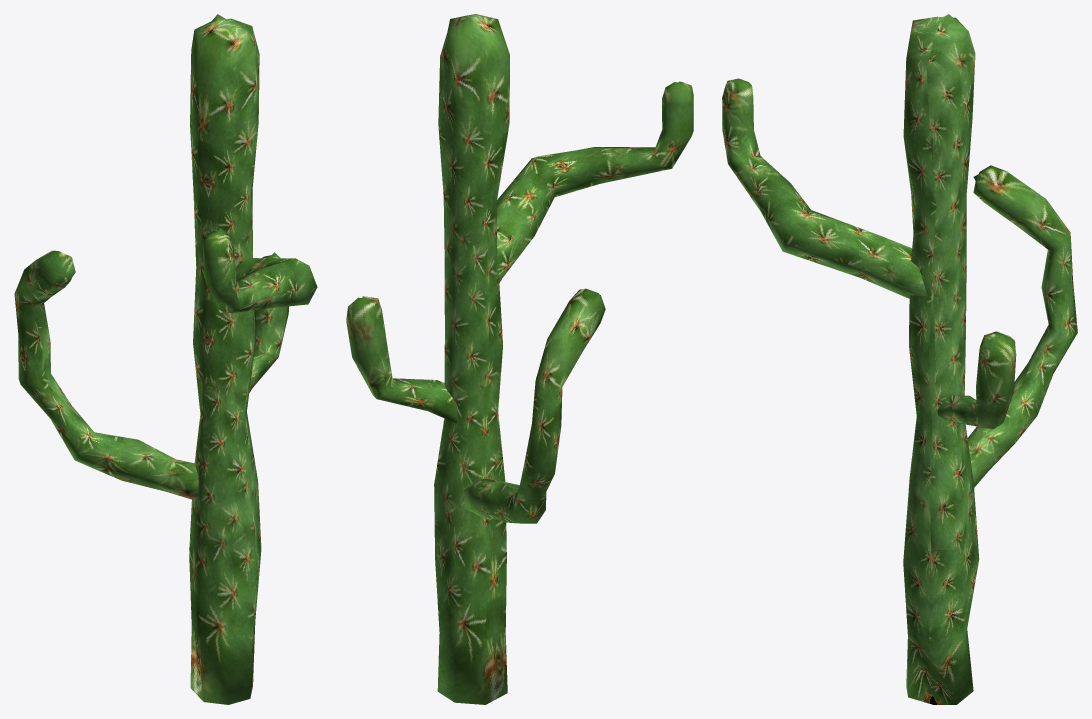
File: cactus_0.glb
3 renders of one model, left to right at view 1: azimuth 30°, elevation 25°; view 2: azimuth 150°, elevation 25°; view 3: azimuth 270°, elevation 25°, orthographic.
Visible parts, largest first — view 1: Cylinder.011; view 2: Cylinder.011; view 3: Cylinder.011.
Part boxes in pixels (left/top/right/bottom): Cylinder.011: left=14, top=14, right=317, bottom=704; Cylinder.011: left=346, top=14, right=693, bottom=704; Cylinder.011: left=722, top=14, right=1077, bottom=704.
Size of the model in its own units: 0.8341 by 2.16 by 1.03.
1 material, 1 textured.
